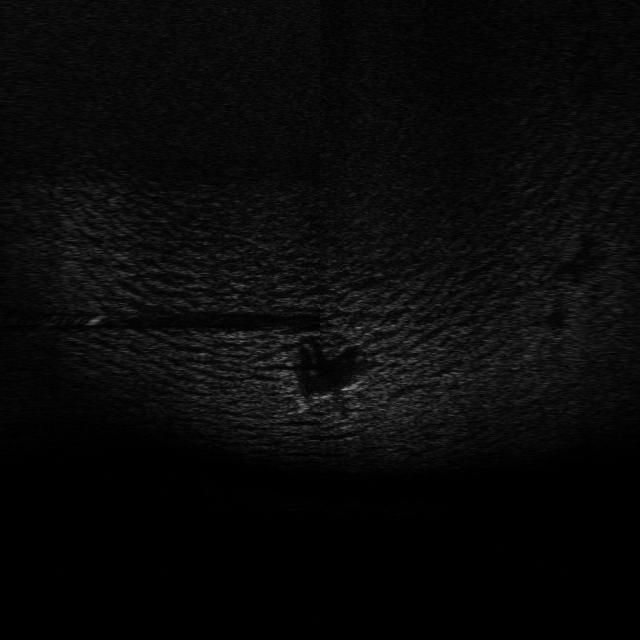plane: (289, 384, 362, 416)
